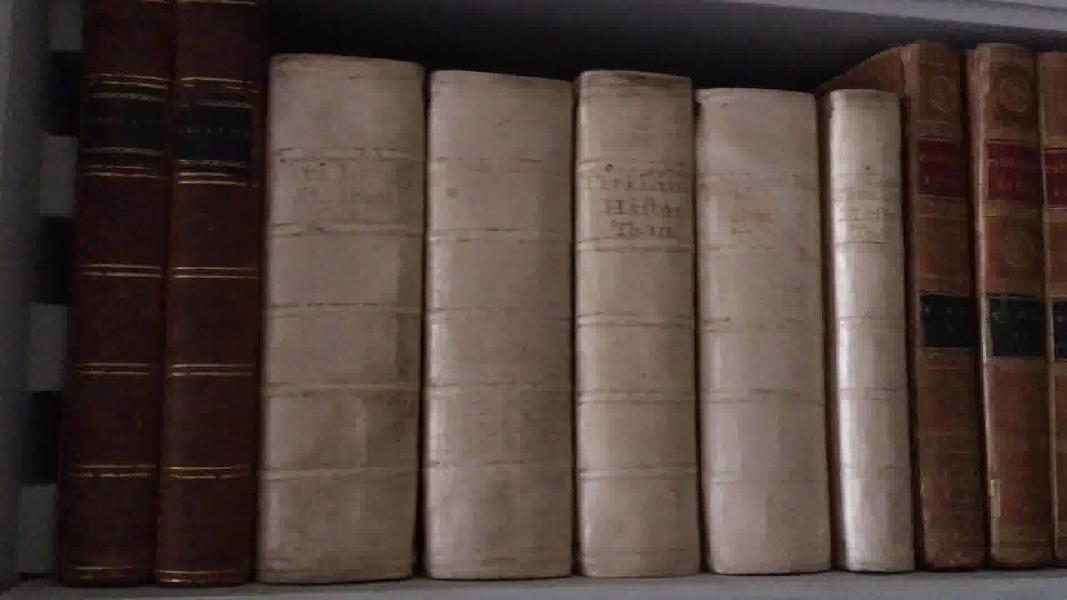Kk4-1_2: (55, 2, 267, 588)
Kk4-3_7: (242, 42, 928, 594)
Kk4-8_13: (889, 29, 1067, 578)
